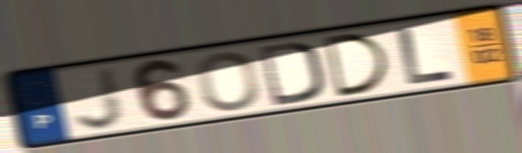6: (130, 56, 194, 125)
D: (320, 30, 394, 100), (256, 38, 326, 108)
J: (71, 64, 128, 132)
L: (394, 25, 459, 87)
O: (194, 49, 262, 114)
